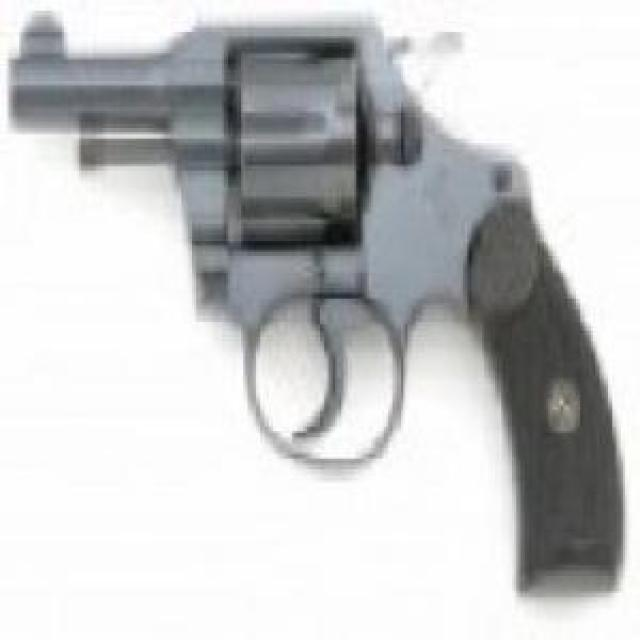pistol: (9, 6, 628, 598)
